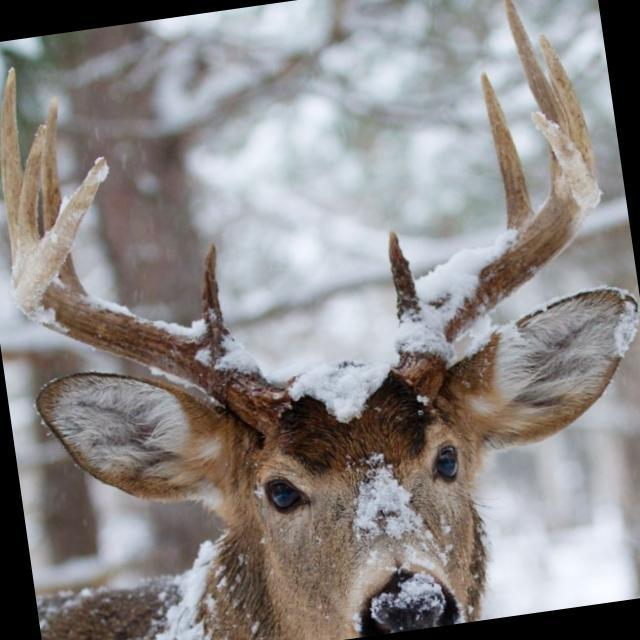L-F: (394, 112, 600, 397)
L-G1: (388, 229, 422, 323)
L-G2: (479, 70, 535, 228)
R-F: (16, 159, 290, 430)
R-G1: (202, 241, 227, 337)
